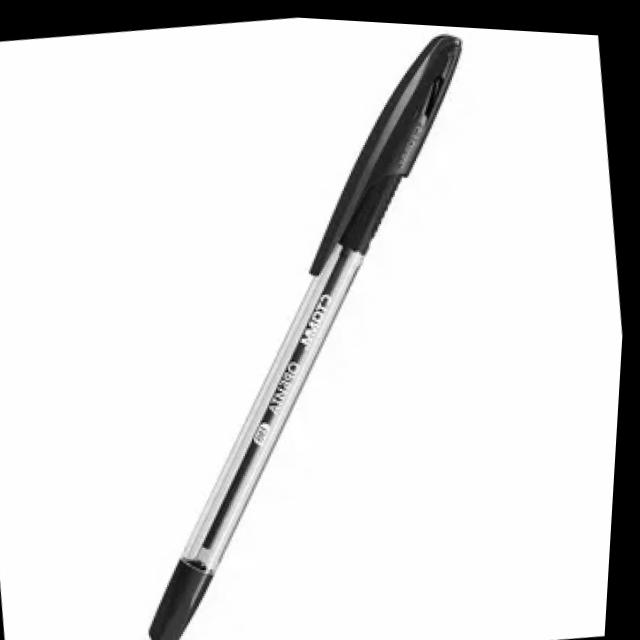pen: (65, 9, 544, 640)
